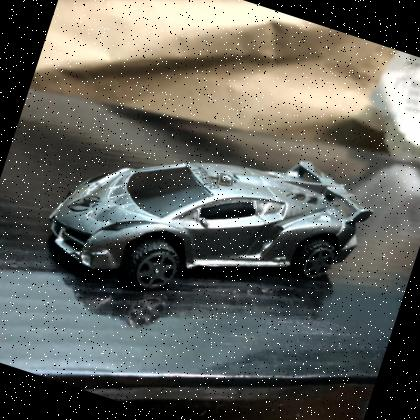Car: (48, 162, 372, 291)
